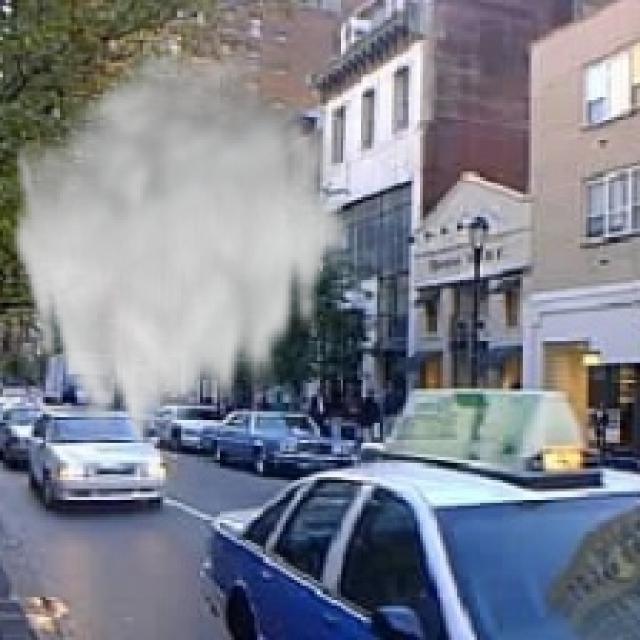Smoke: (8, 40, 354, 463)
